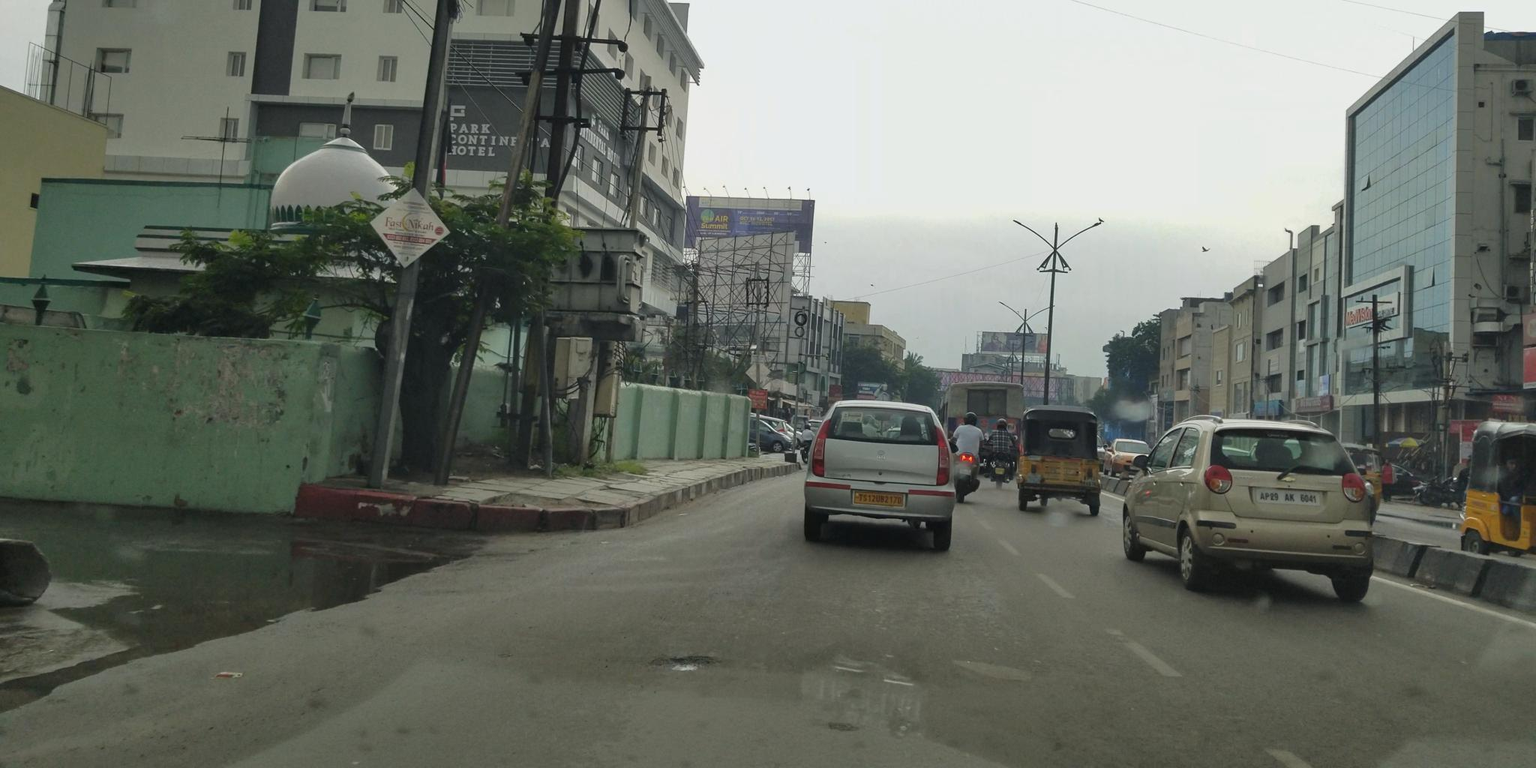streetlight: (1042, 211, 1122, 266), (989, 206, 1069, 260), (1019, 299, 1061, 334), (986, 301, 1028, 336)
